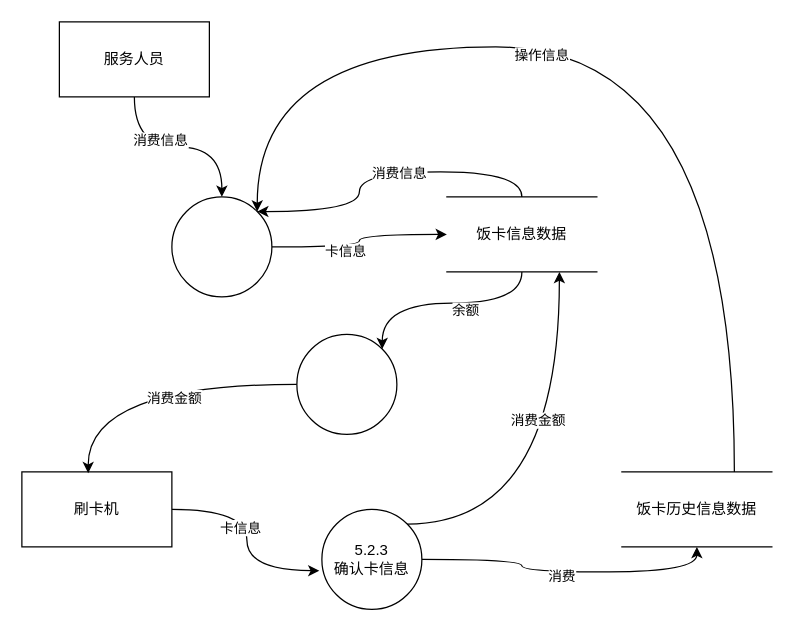
Image size: 794x631. Some labels were removed from this diagram. The shapes that lost their labels are listed below. From the top down, each one's centre as x and y in pixels, then its label:
pixel 221 246: 5.2.1 消费
pixel 346 383: 5.2.2 显示余额
